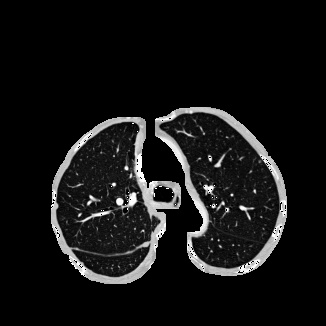PN: (142, 241, 148, 247)
